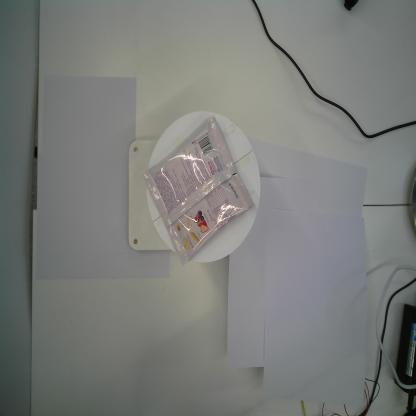Instant Drink: (143, 115, 255, 266)
